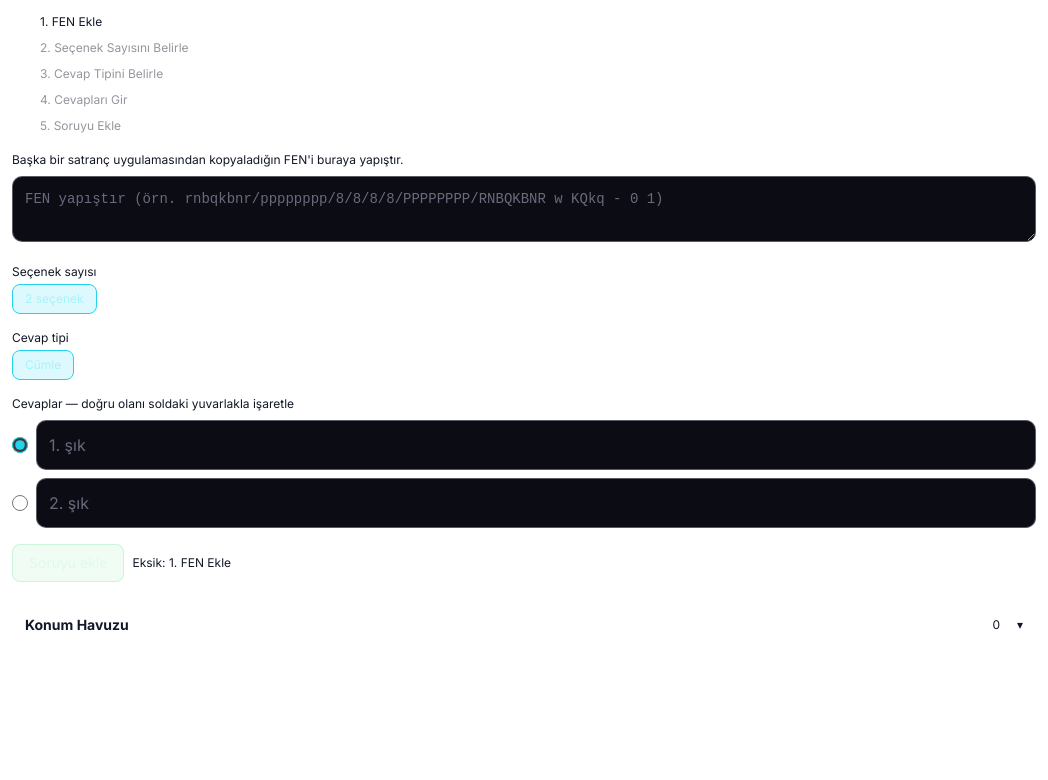
Scenario: KonumPratigiPoolView — havuz kartı (Kazanç Konumu ile AYNI desen) › havuz boşken açılınca bilgi metni çıkar, ekle formu yine görünür
This screenshot has width=1048, height=780.
Click the text "Konum Havuzu": [77, 624] box [25,616,129,633]
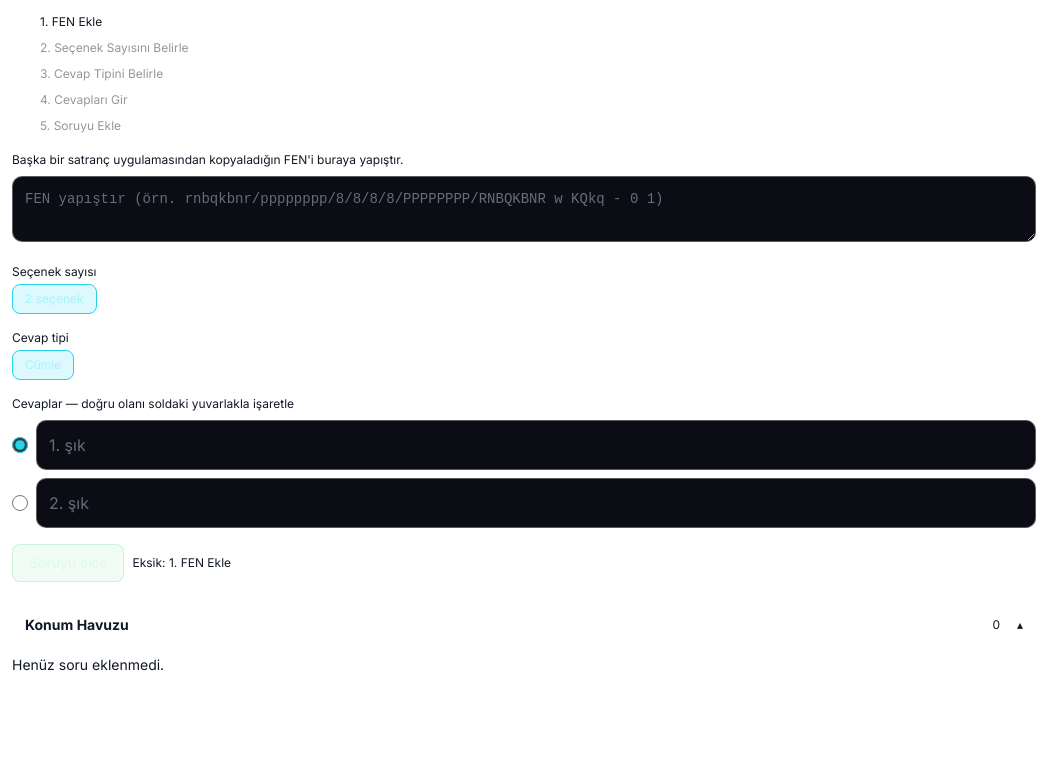
Expected: the text box with placeholder "FEN yapıştır" is shown, [12,176,1036,242]
Expected: the text "Henüz soru eklenmedi." is shown, [12,656,164,673]
